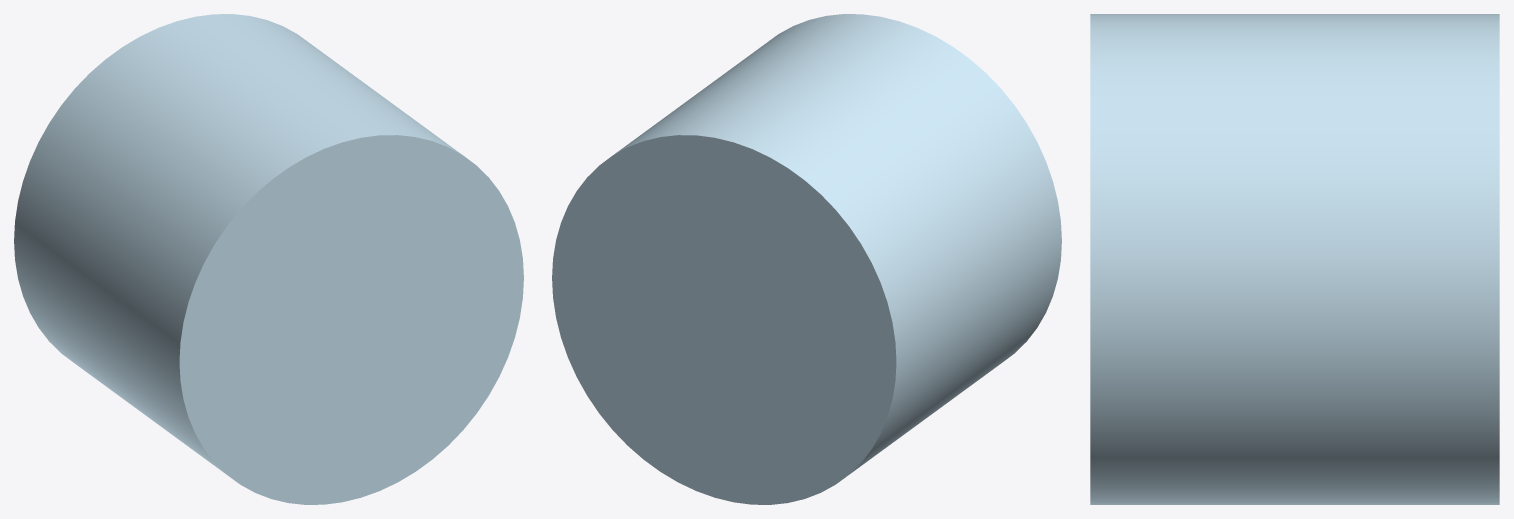
The model's file is onshape-cylinder-uncompressed.glb.
The picture shows the model from 3 angles, left to right: view 1: azimuth 30°, elevation 25°; view 2: azimuth 150°, elevation 25°; view 3: azimuth 270°, elevation 25°; orthographic projection. The views are drawn at different scales.
Parts seen in each view (by area): view 1: Part 1; view 2: Part 1; view 3: Part 1.
Part boxes in pixels (<box>): Part 1: <box>14,14,523,504</box>; Part 1: <box>552,14,1061,504</box>; Part 1: <box>1090,14,1499,504</box>.
Bounding box in the file's own units: 0.0736 × 0.0735 × 0.0612.
